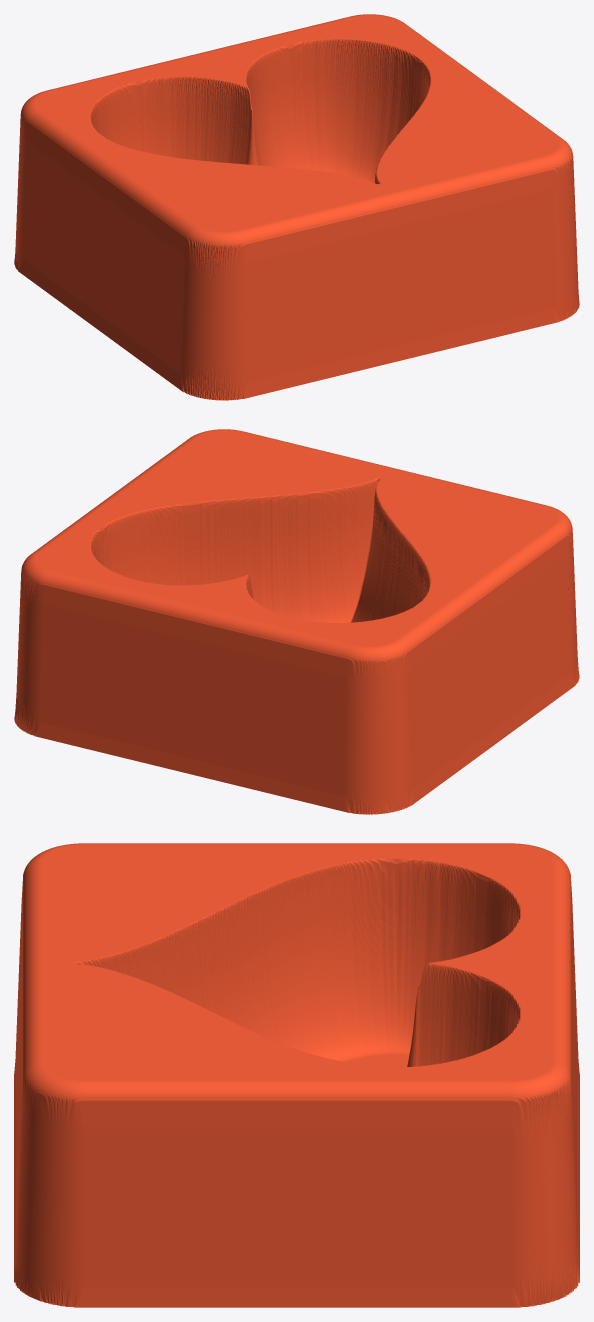
Rendered from mold.glb.
The picture shows the model from 3 angles, top to bottom: view 1: azimuth 30°, elevation 25°; view 2: azimuth 150°, elevation 25°; view 3: azimuth 270°, elevation 25°; orthographic projection. The views are drawn at different scales.
Parts seen in each view (by area): view 1: geometry_0; view 2: geometry_0; view 3: geometry_0.
Boxes of the visible parts, left/top/right/bottom form: geometry_0: left=14, top=14, right=579, bottom=400; geometry_0: left=14, top=429, right=579, bottom=814; geometry_0: left=14, top=843, right=579, bottom=1307.
Size of the model in its own units: 0.0798 by 0.031 by 0.0738.
